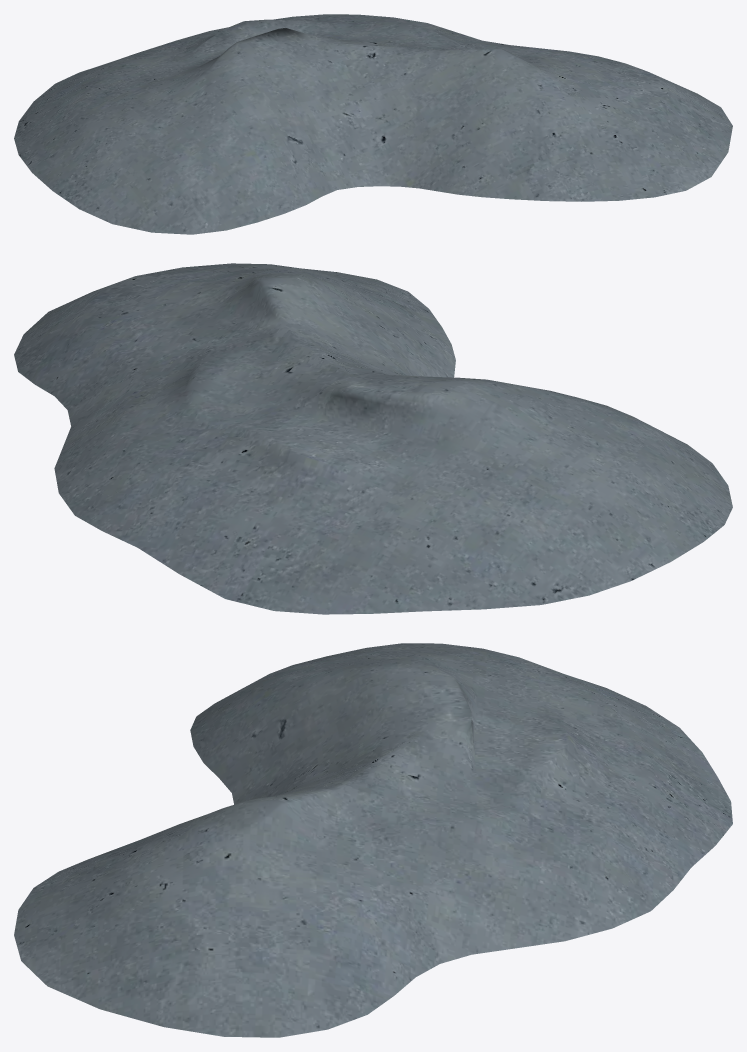
Rendered from tesv_snowdrifitm02int-transformed.glb.
3 views of the same model, one above another, from view 1: azimuth 30°, elevation 25°; view 2: azimuth 150°, elevation 25°; view 3: azimuth 270°, elevation 25° (orthographic). The views are drawn at different scales.
Visible parts, largest first — view 1: snowdriftm02int; view 2: snowdriftm02int; view 3: snowdriftm02int.
Part boxes in pixels (x1,y1,x2,y2): snowdriftm02int: (14,14,732,234); snowdriftm02int: (14,263,732,614); snowdriftm02int: (14,643,732,1037).
Bounding box in the file's own units: 9.46 × 1.46 × 7.83.
Materials: 1 (1 with a texture image).
